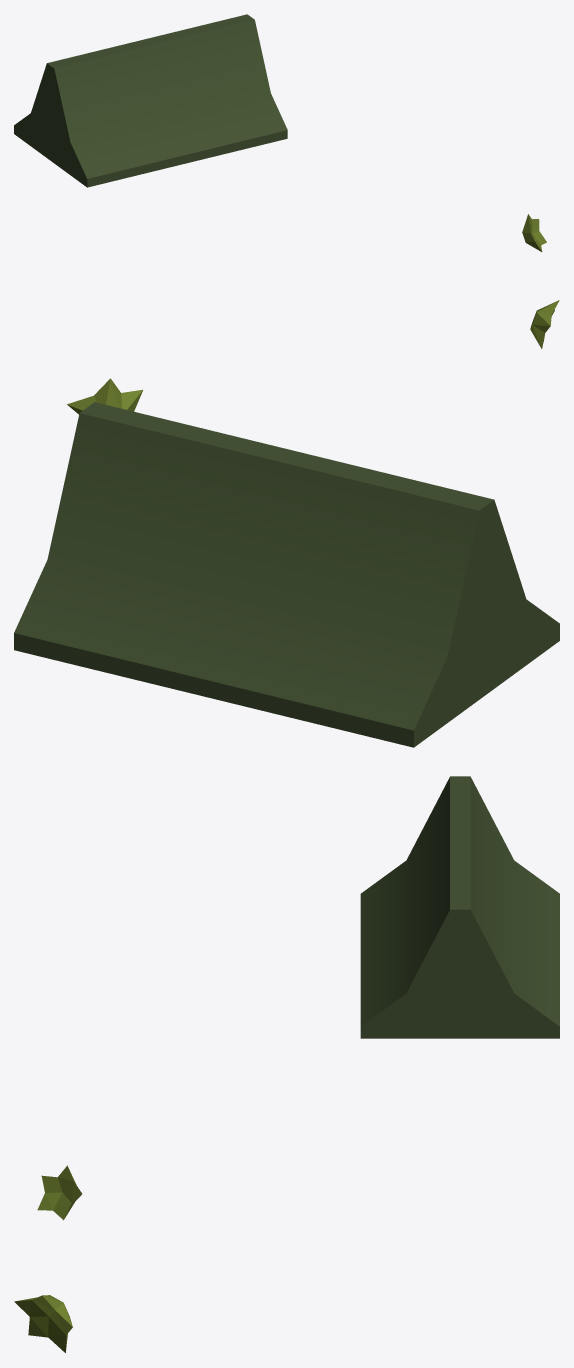
The picture shows the model from 3 angles, top to bottom: view 1: azimuth 30°, elevation 25°; view 2: azimuth 150°, elevation 25°; view 3: azimuth 270°, elevation 25°; orthographic projection. The views are drawn at different scales.
Parts seen in each view (by area): view 1: Object208_roof1_0, Box15917_green2_0, Box15921_green2_0; view 2: Object208_roof1_0, Box15921_green2_0; view 3: Object208_roof1_0, Box15917_green2_0, Box15921_green2_0.
Boxes of the visible parts, left/top/right/bottom form: Object208_roof1_0: left=14, top=14, right=287, bottom=187; Box15917_green2_0: left=530, top=300, right=559, bottom=348; Box15921_green2_0: left=522, top=214, right=546, bottom=251; Object208_roof1_0: left=14, top=402, right=559, bottom=747; Box15921_green2_0: left=67, top=378, right=142, bottom=414; Object208_roof1_0: left=360, top=776, right=559, bottom=1038; Box15917_green2_0: left=14, top=1295, right=72, bottom=1352; Box15921_green2_0: left=37, top=1165, right=82, bottom=1220.
Bounding box in the file's own units: 1129 × 758 × 1084.
